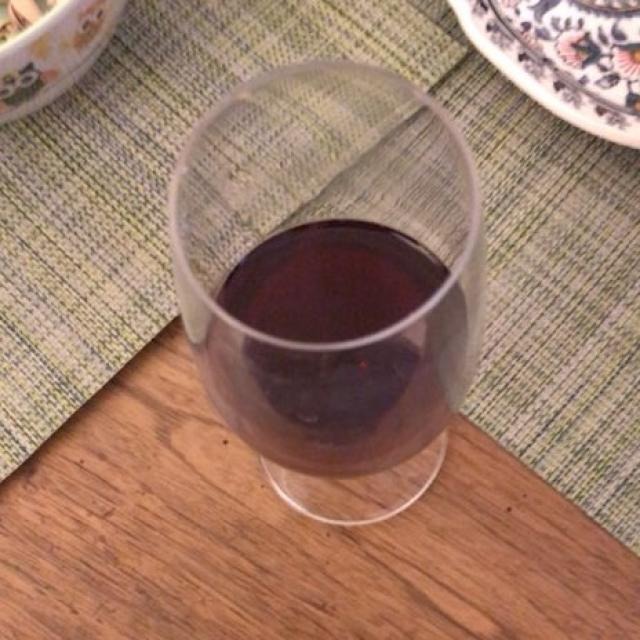wine-red: (196, 216, 473, 467)
